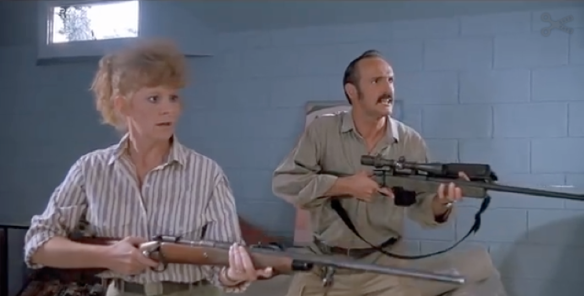Rifle: (59, 225, 469, 292), (317, 155, 584, 212)
